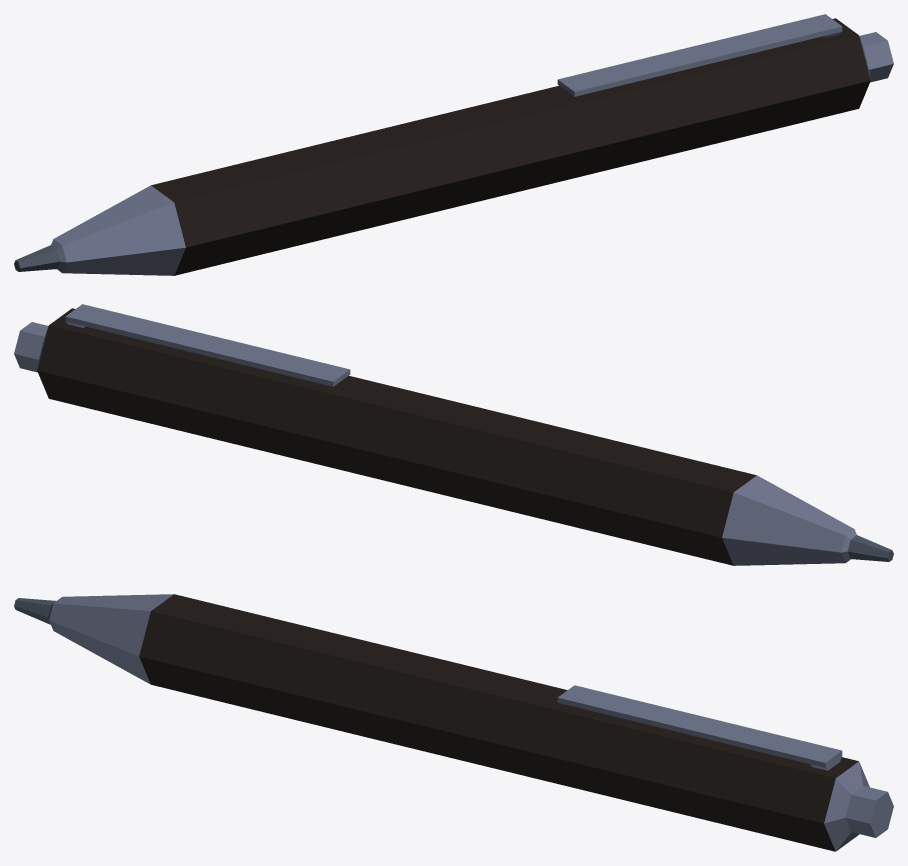
Rendered from Pen.fbx.
The picture shows the model from 3 angles, top to bottom: view 1: azimuth 30°, elevation 25°; view 2: azimuth 150°, elevation 25°; view 3: azimuth 330°, elevation 25°; orthographic projection.
Parts seen in each view (by area): view 1: Color, Pen; view 2: Color, Pen; view 3: Color, Pen.
Boxes of the visible parts, left/top/right/bottom form: Color: left=151, top=18, right=870, bottom=275; Pen: left=14, top=14, right=893, bottom=275; Color: left=37, top=308, right=756, bottom=565; Pen: left=14, top=304, right=893, bottom=565; Color: left=139, top=594, right=858, bottom=851; Pen: left=14, top=594, right=893, bottom=851.
Bounding box in the file's own units: 14.22 × 1.31 × 1.33.
